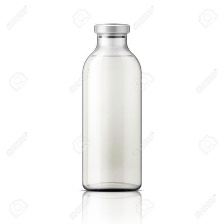bottle: (80, 18, 144, 194)
